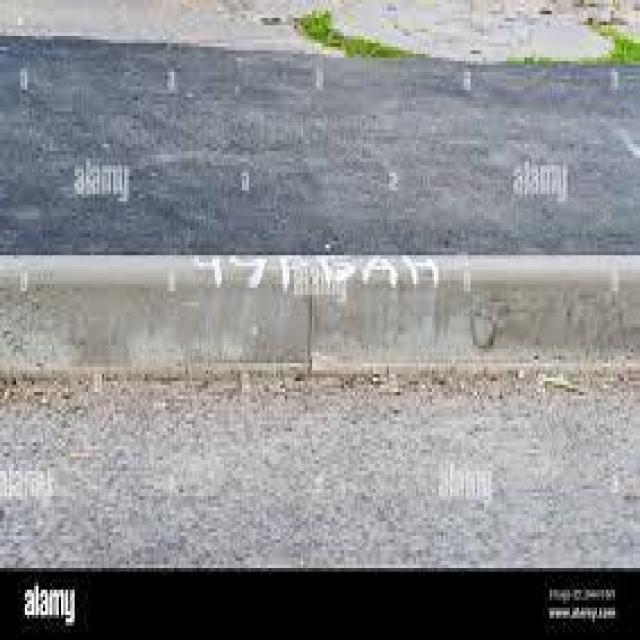curb: (303, 252, 629, 379), (10, 253, 308, 386)
